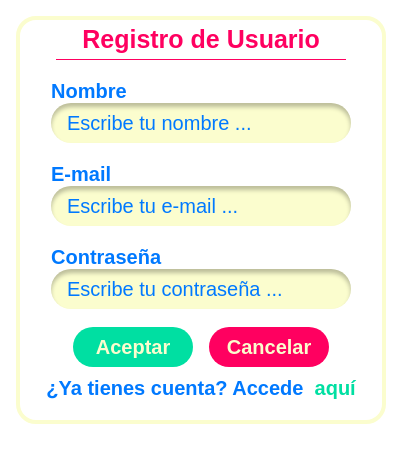
Test: RegisterCard Integration Test › should show an error if email is already in use
Type "maria" into the field with placeholder "Escribe tu nombre ...". click: point(201, 123)
box: [51,103,351,143]
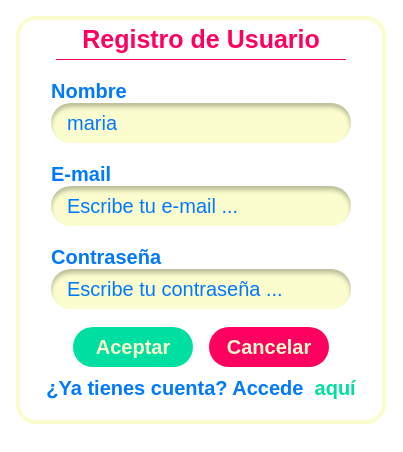
Type "maria0@gmail.com" into the field with placeholder "Escribe tu e-mail ...". click: point(201, 206)
box: [51,186,351,226]
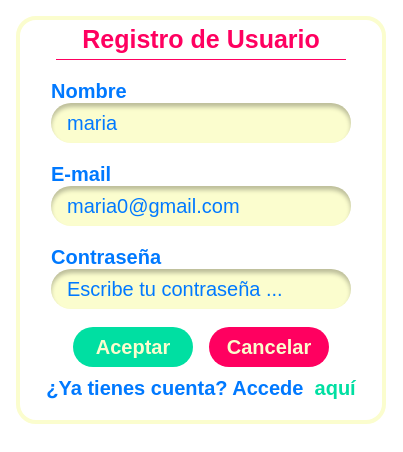
Type "1234" into the password field with placeholder "Escribe tu contraseña ...". click: point(201, 289)
box: [51,269,351,309]
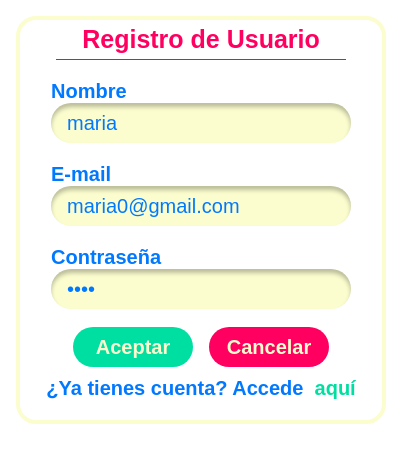
Click the button "Aceptar". click: point(133, 347)
box: [73,327,193,367]
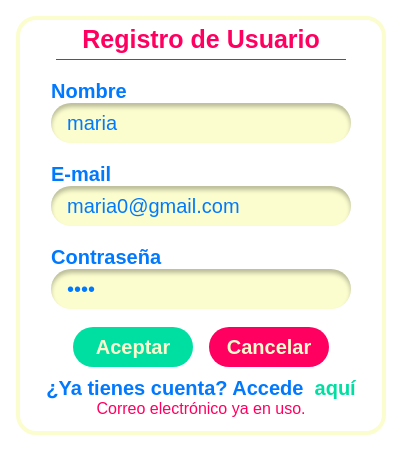
Now the text "Correo electrónico ya en uso." is shown, box [96,400,306,417]
